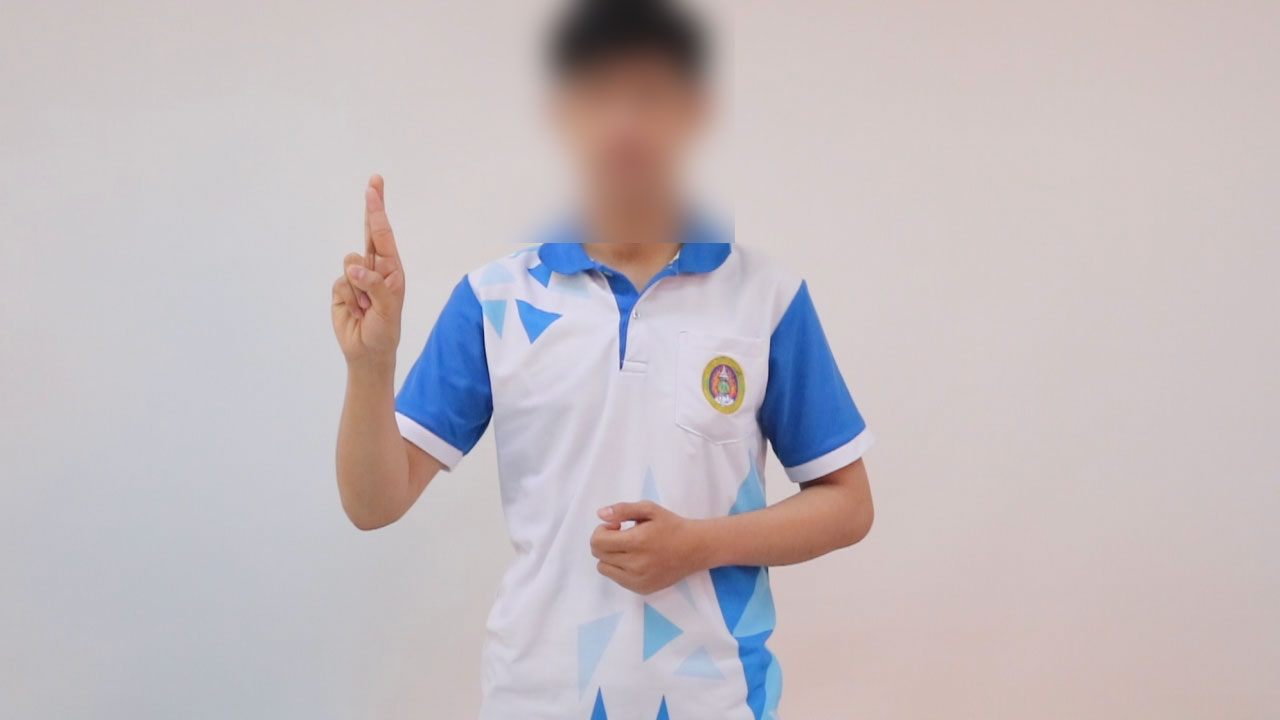rao: (309, 166, 427, 371)
